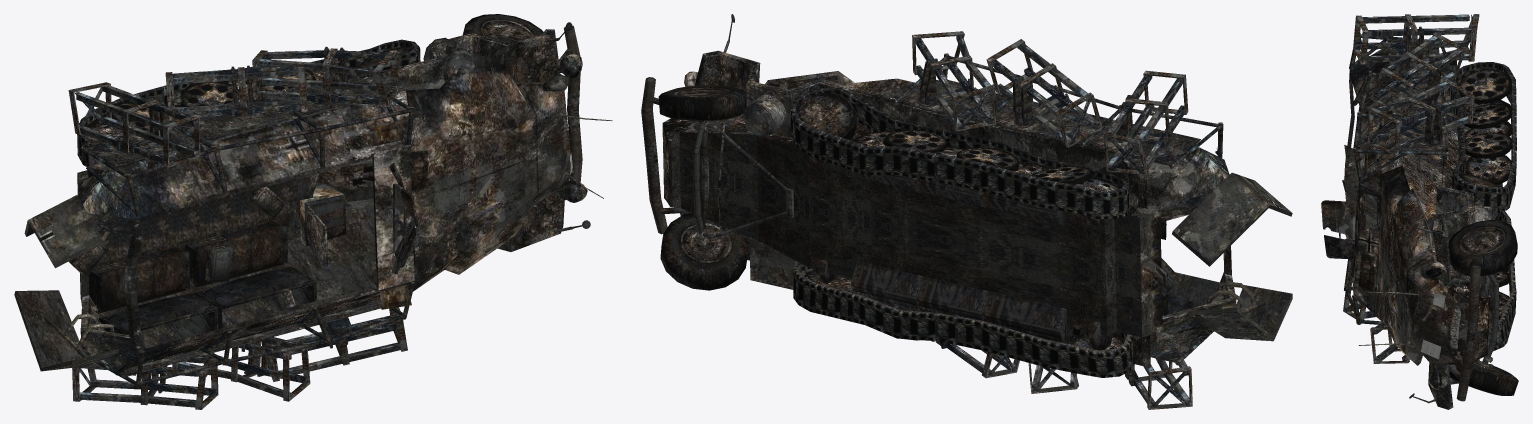
Rendered from vehicle_halftrack_rockets_woodland_d.glb.
3 renders of one model, left to right at view 1: azimuth 30°, elevation 25°; view 2: azimuth 150°, elevation 25°; view 3: azimuth 270°, elevation 25°, orthographic. The views are drawn at different scales.
Bounding box in the file's own units: 259 × 134 × 88.62.
Materials: 3 (3 with a texture image).
